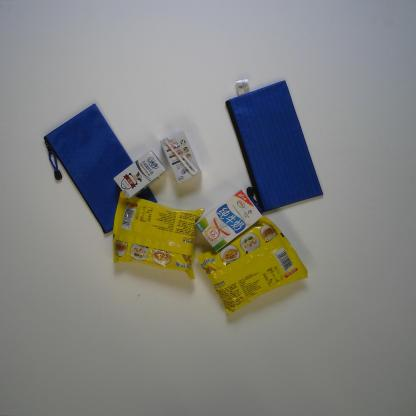Instant Noodles: (196, 214, 309, 318), (112, 190, 205, 280)
Milk: (194, 188, 263, 253), (113, 149, 169, 201), (159, 130, 201, 184)
Stationery: (42, 103, 158, 234), (224, 75, 325, 213)
